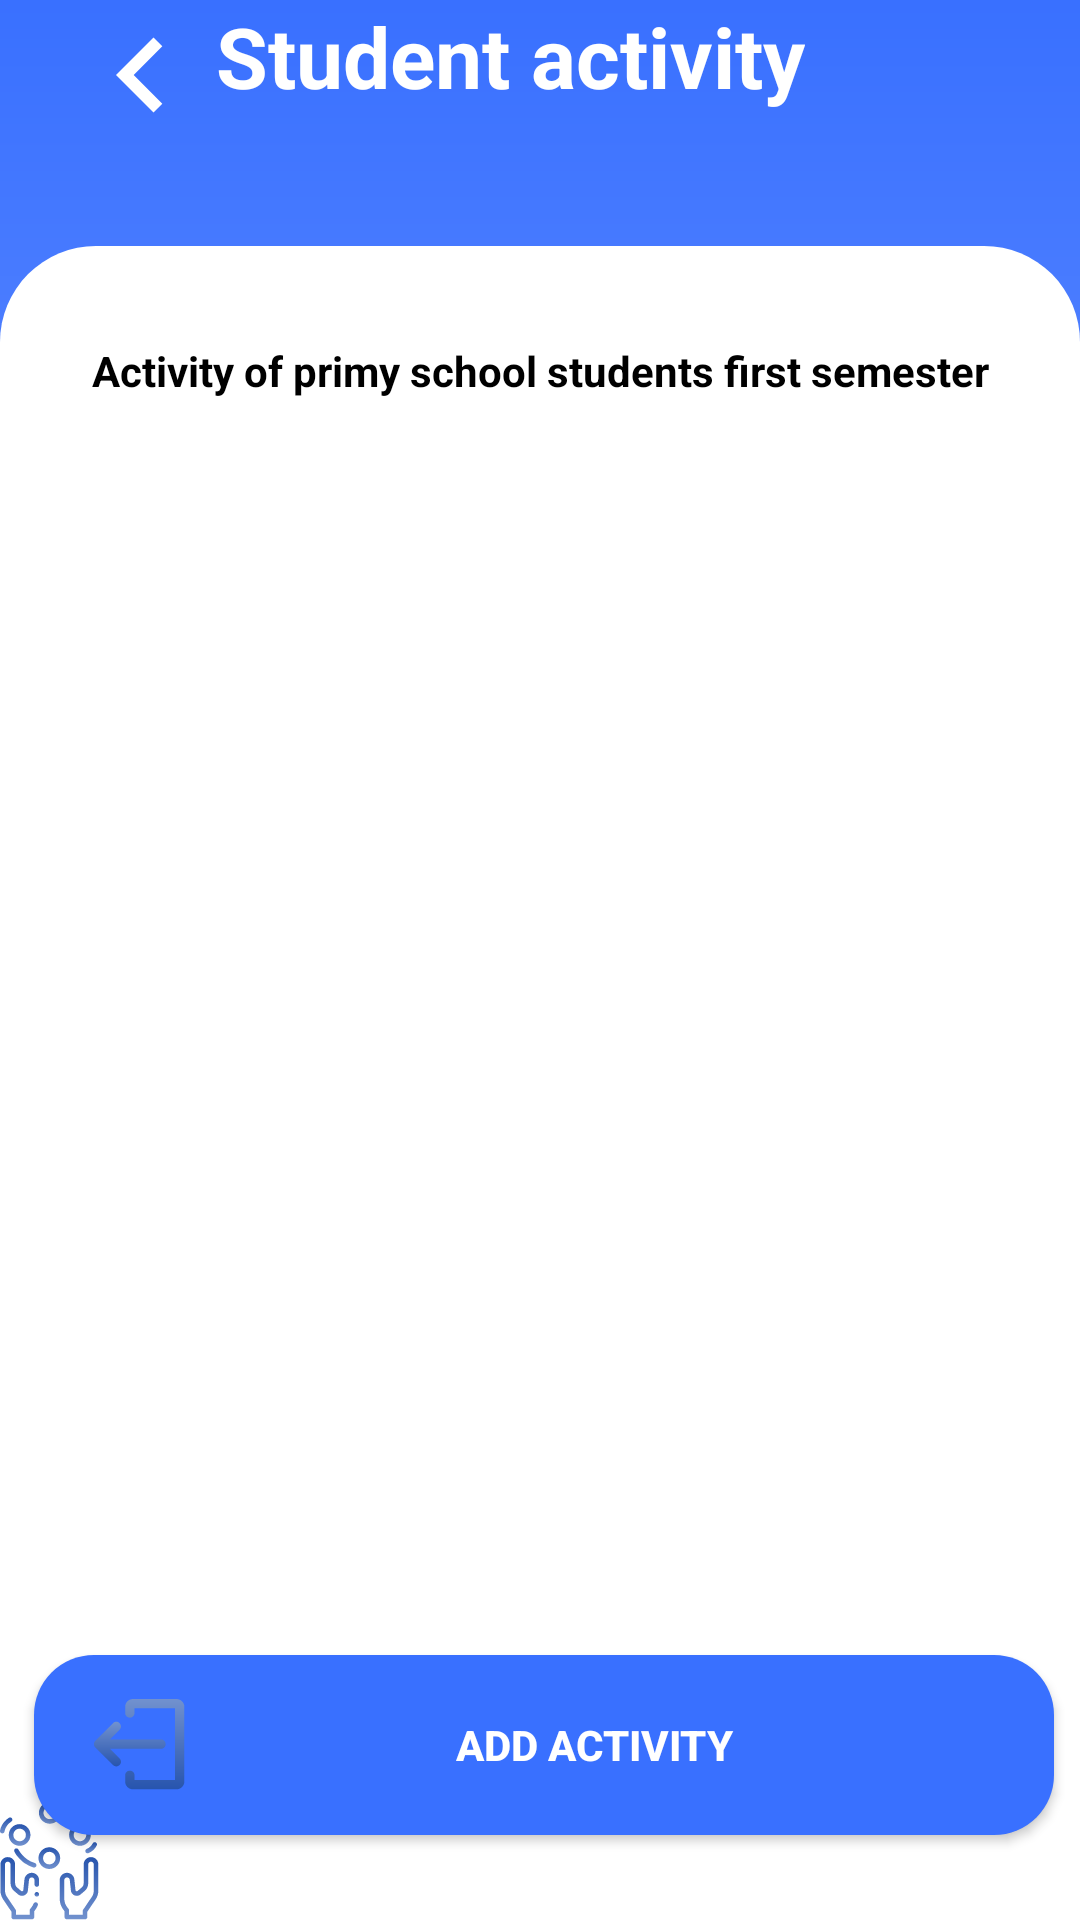

Point at icon controls on the screen. Image size 1080 x 1920, points as (x=x, y=y).
studentactivity: (x=49, y=1861)
